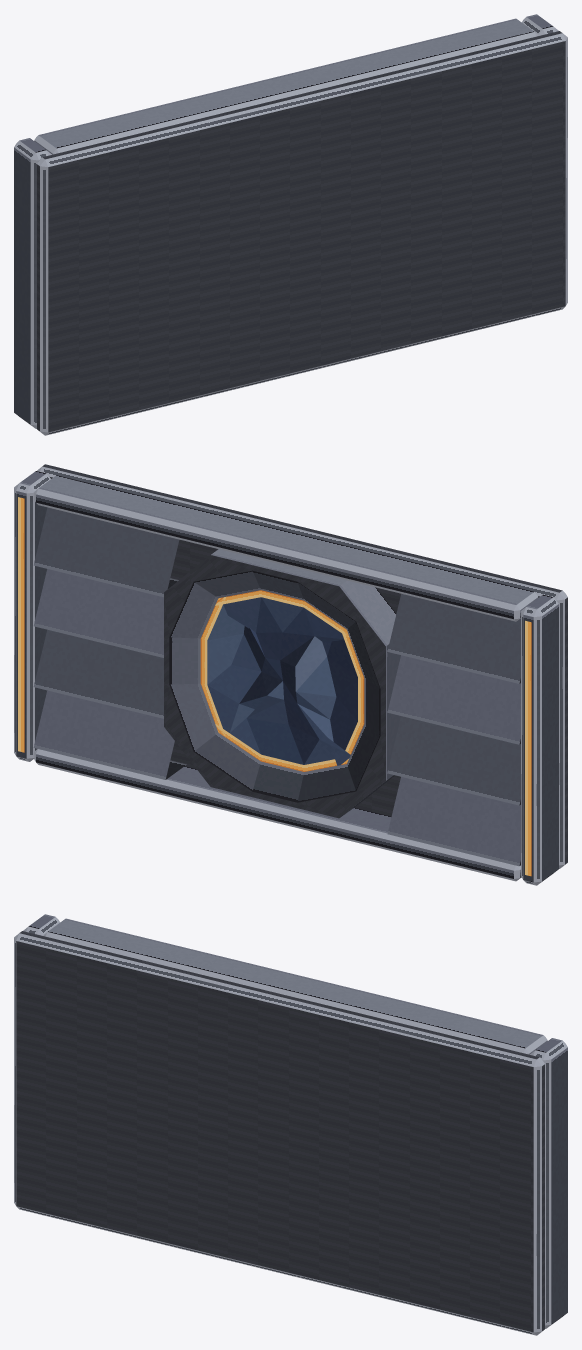
The model's file is marlit_armor8.glb.
The picture shows the model from 3 angles, top to bottom: view 1: azimuth 30°, elevation 25°; view 2: azimuth 150°, elevation 25°; view 3: azimuth 330°, elevation 25°; orthographic projection.
Visible parts, largest first — view 1: marlit_armor8_body; view 2: marlit_armor8_body; view 3: marlit_armor8_body.
Part boxes in pixels (x1,y1,x2,y2): marlit_armor8_body: (14,14,567,435); marlit_armor8_body: (14,464,567,885); marlit_armor8_body: (14,914,567,1335).
Size of the model in its own units: 4 by 2 by 0.421.
Materials: 1 (1 with a texture image).
